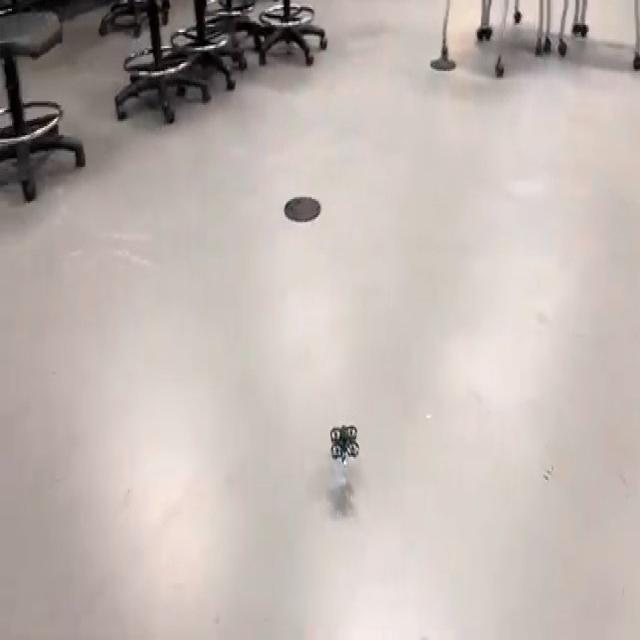drone: (322, 401, 366, 475)
